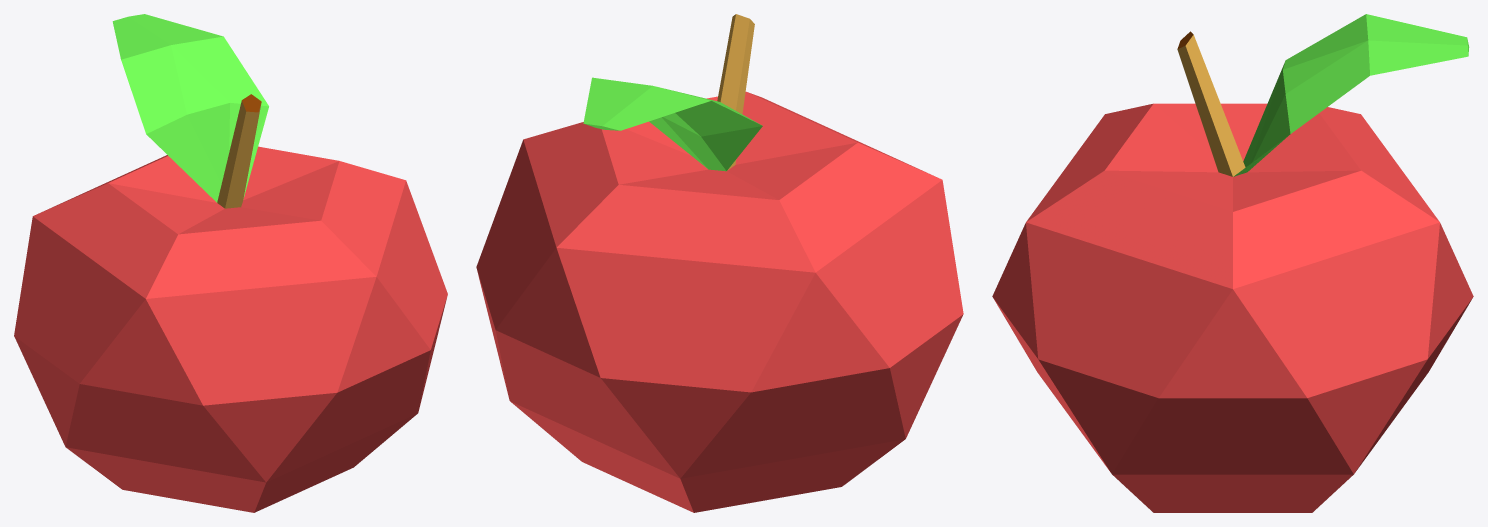
Rendered from applered01.gltf.
3 renders of one model, left to right at view 1: azimuth 30°, elevation 25°; view 2: azimuth 150°, elevation 25°; view 3: azimuth 270°, elevation 25°, orthographic. The views are drawn at different scales.
Visible parts, largest first — view 1: Icosphere; view 2: Icosphere; view 3: Icosphere.
Part boxes in pixels (x1,y1,x2,y2): Icosphere: [14, 14, 447, 512]; Icosphere: [476, 14, 963, 512]; Icosphere: [992, 14, 1473, 512].
Bounding box in the file's own units: 0.0931 × 0.0995 × 0.0931.
1 material, 1 textured.
